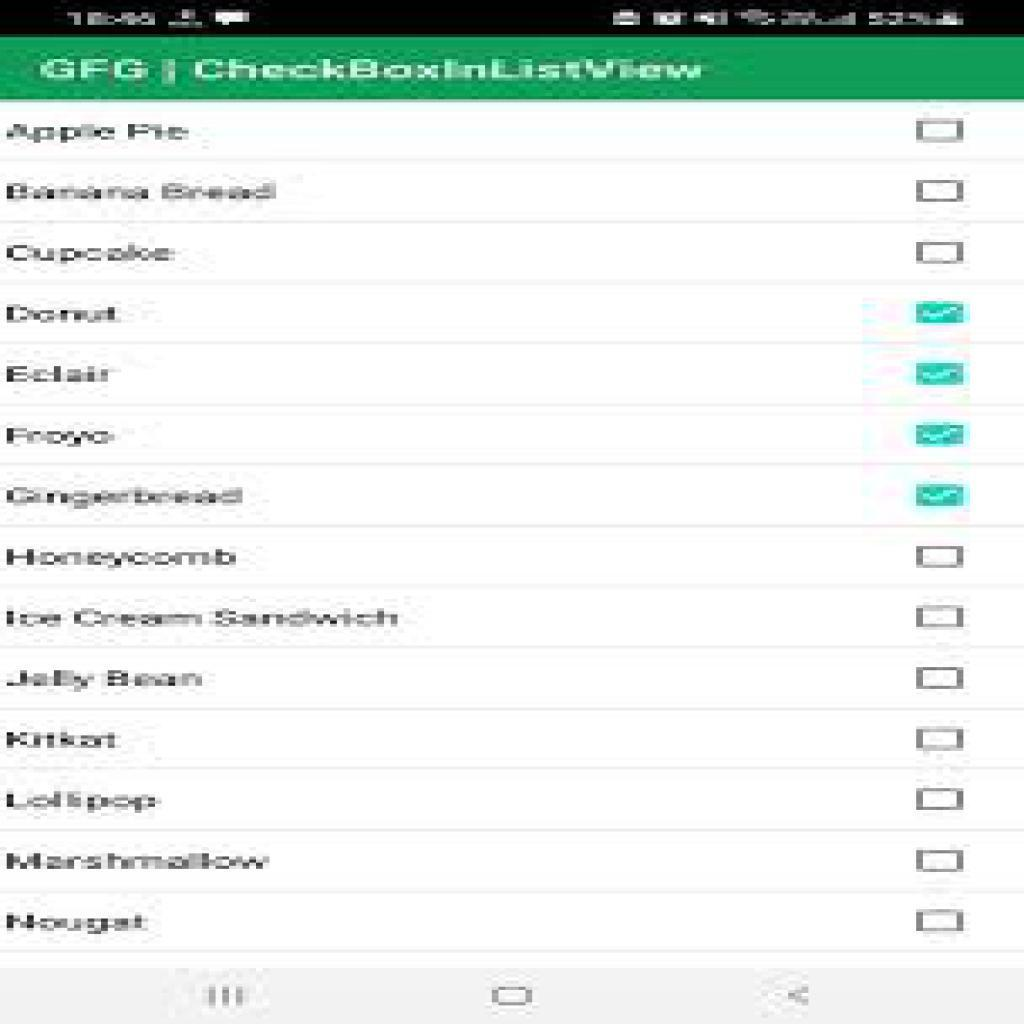checkbox: (915, 422, 969, 451), (917, 484, 969, 508), (916, 301, 966, 325), (916, 364, 965, 388), (918, 118, 964, 143), (915, 727, 964, 750), (917, 181, 963, 205), (918, 788, 964, 812), (918, 606, 966, 629), (916, 242, 965, 264), (919, 911, 965, 934), (918, 547, 964, 570), (916, 850, 964, 872), (918, 669, 965, 690)
